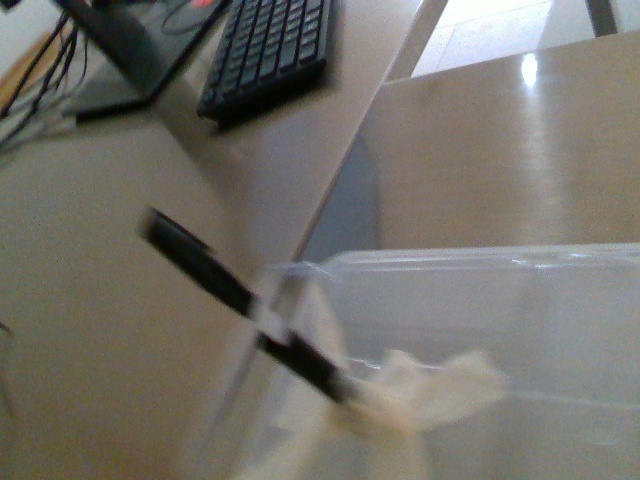test_strip: (136, 208, 292, 346)
